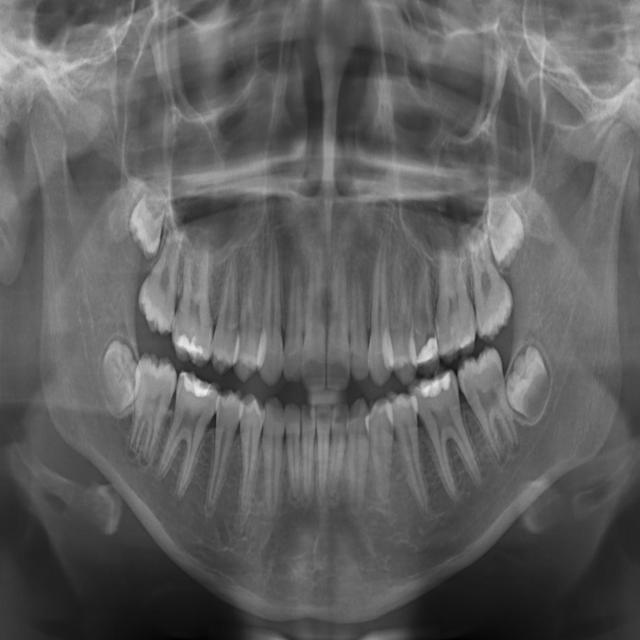CompositeResinRestoration: (175, 326, 209, 364), (417, 370, 453, 404), (181, 372, 214, 407), (415, 348, 438, 369)
DentalCaries: (423, 326, 434, 348)
